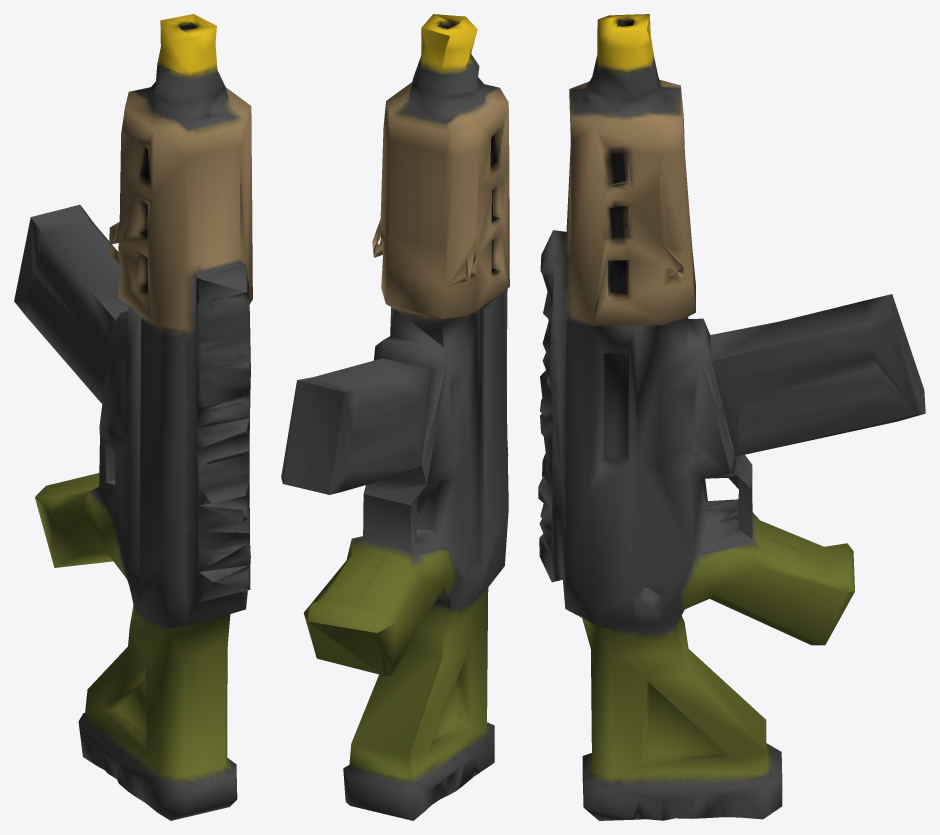
The picture shows the model from 3 angles, left to right: view 1: azimuth 30°, elevation 25°; view 2: azimuth 150°, elevation 25°; view 3: azimuth 270°, elevation 25°; orthographic projection. The views are drawn at different scales.
Visible parts, largest first — view 1: k47, part_mag; view 2: k47, part_mag; view 3: k47, part_mag.
Part boxes in pixels (x1=…): k47: x1=35, y1=14, x2=252, y2=820; part_mag: x1=14, y1=204, x2=128, y2=403; k47: x1=303, y1=14, x2=509, y2=820; part_mag: x1=281, y1=347, x2=447, y2=494; k47: x1=538, y1=14, x2=854, y2=820; part_mag: x1=701, y1=294, x2=925, y2=471.
Size of the model in its own units: 0.1242 by 0.9179 by 0.4106.
Materials: 1 (1 with a texture image).
